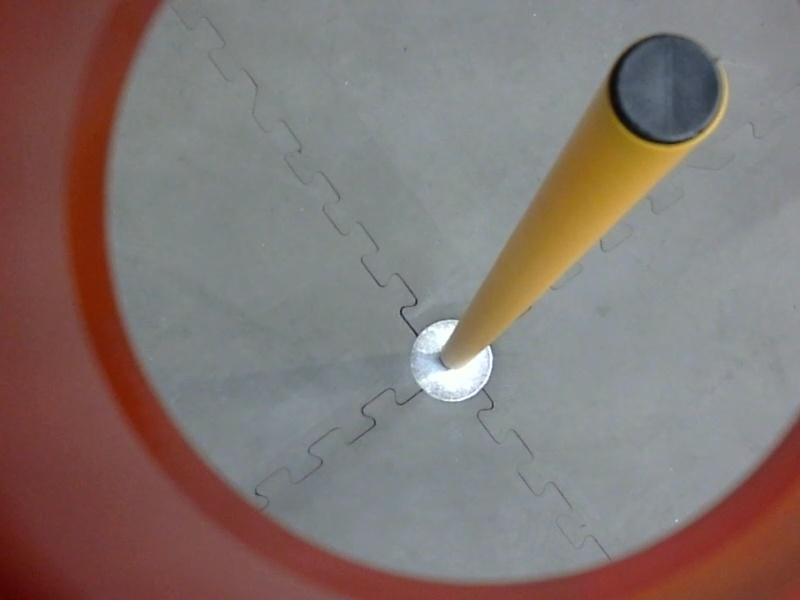tip: (599, 25, 739, 155)
